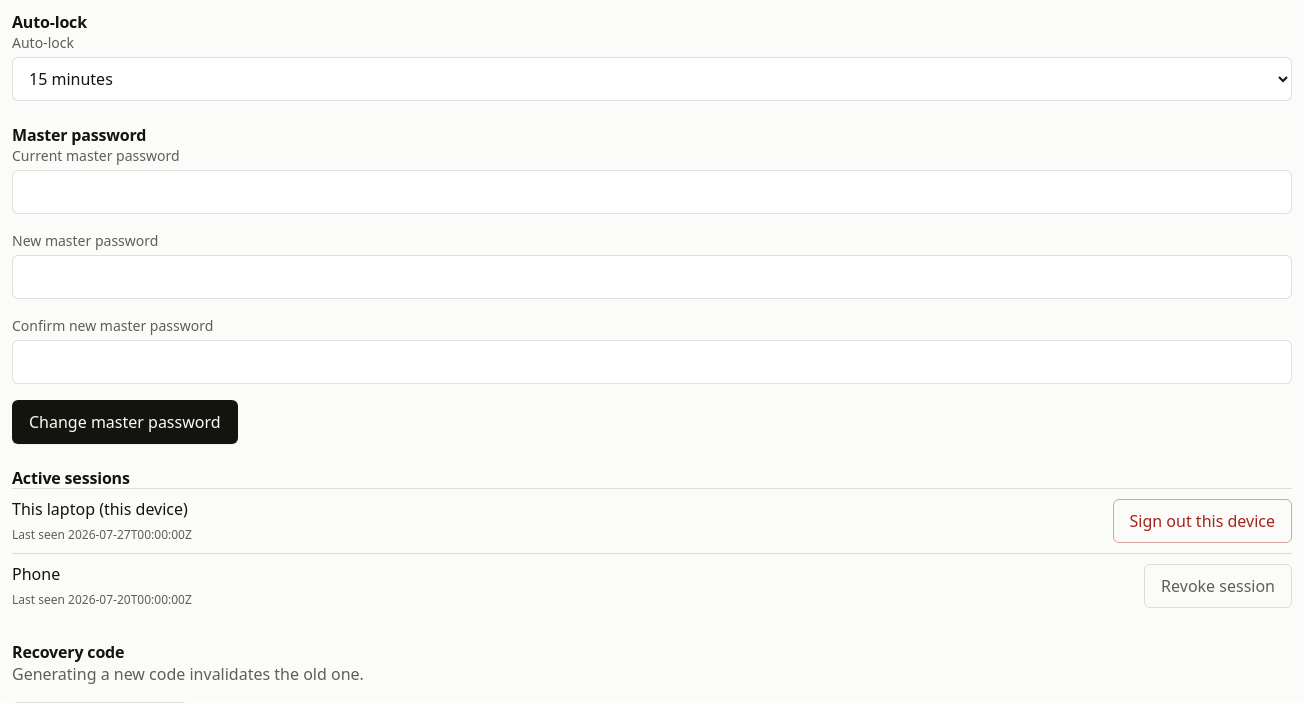
Test: SettingsScreen master password › shows the server's own message for a wrong current password
Type "wrong-password" into the password field labelled "Current master password" at (652, 192), box 12,170 -> 1292,214
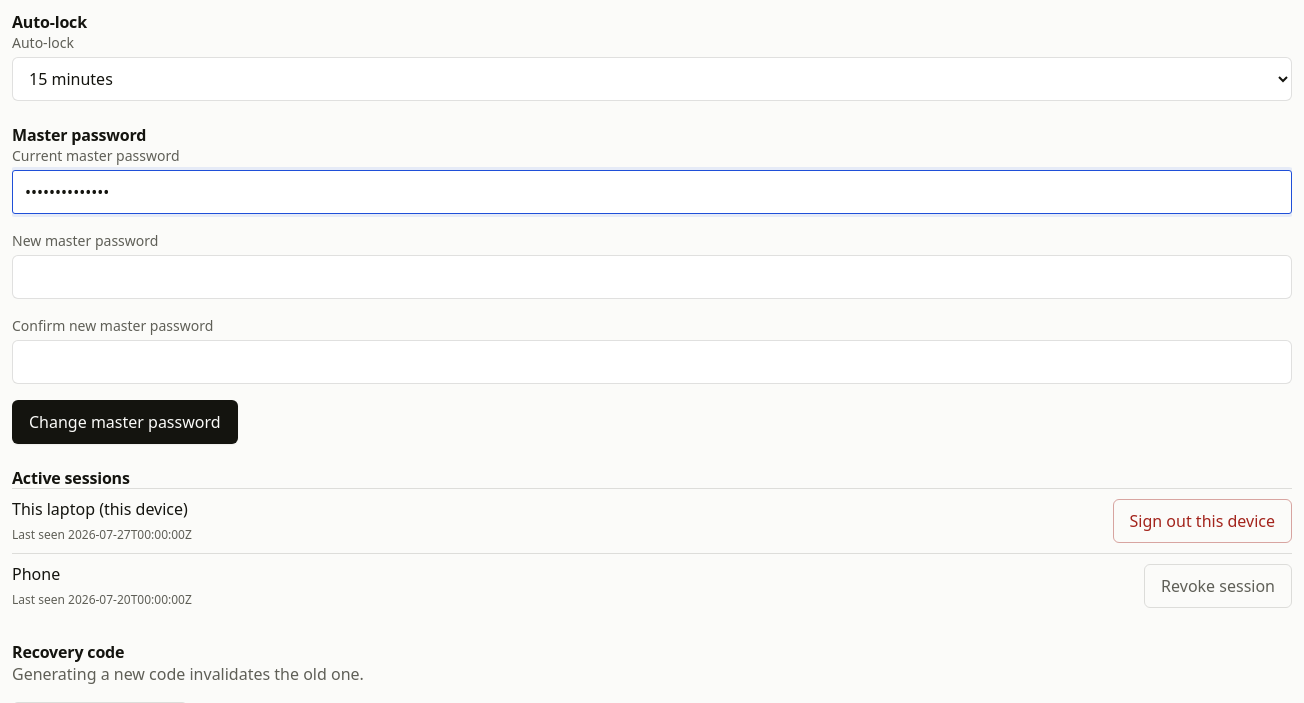
Type "new-password" into the password field labelled "New master password" at (652, 277), box 12,255 -> 1292,299
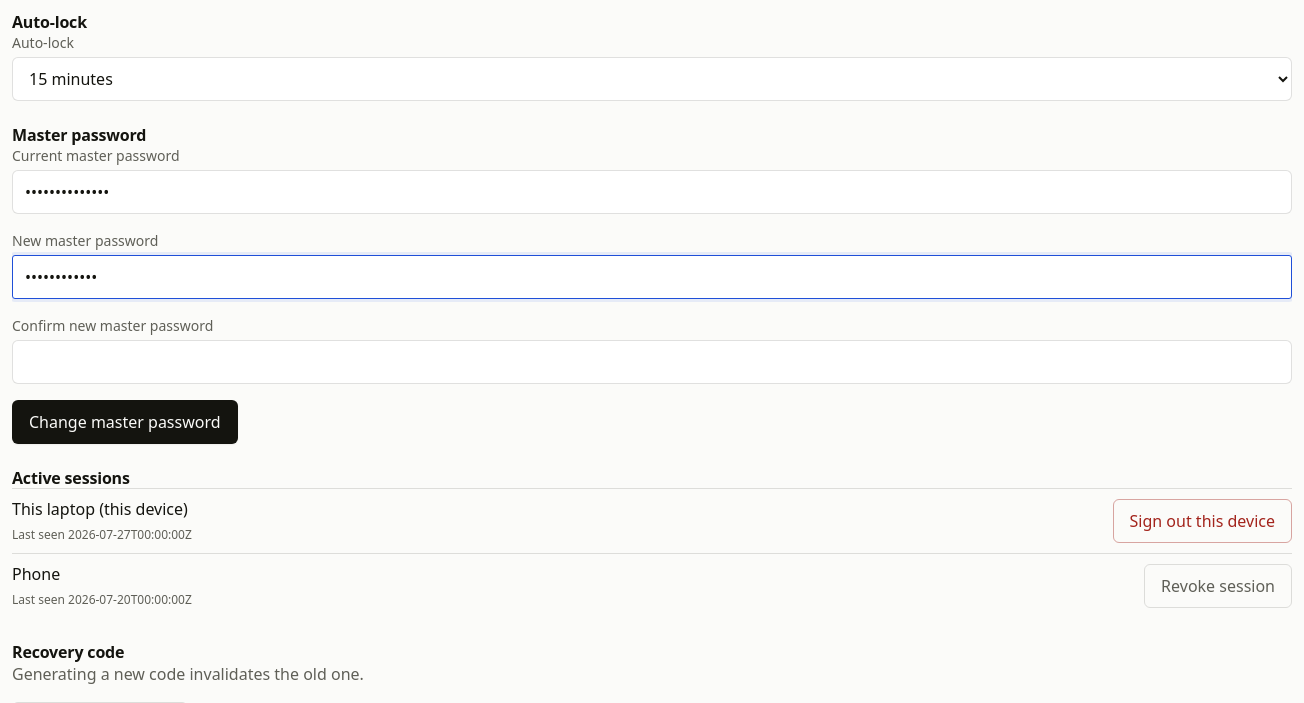
Type "new-password" into the password field labelled "Confirm new master password" at (652, 362), box 12,340 -> 1292,384
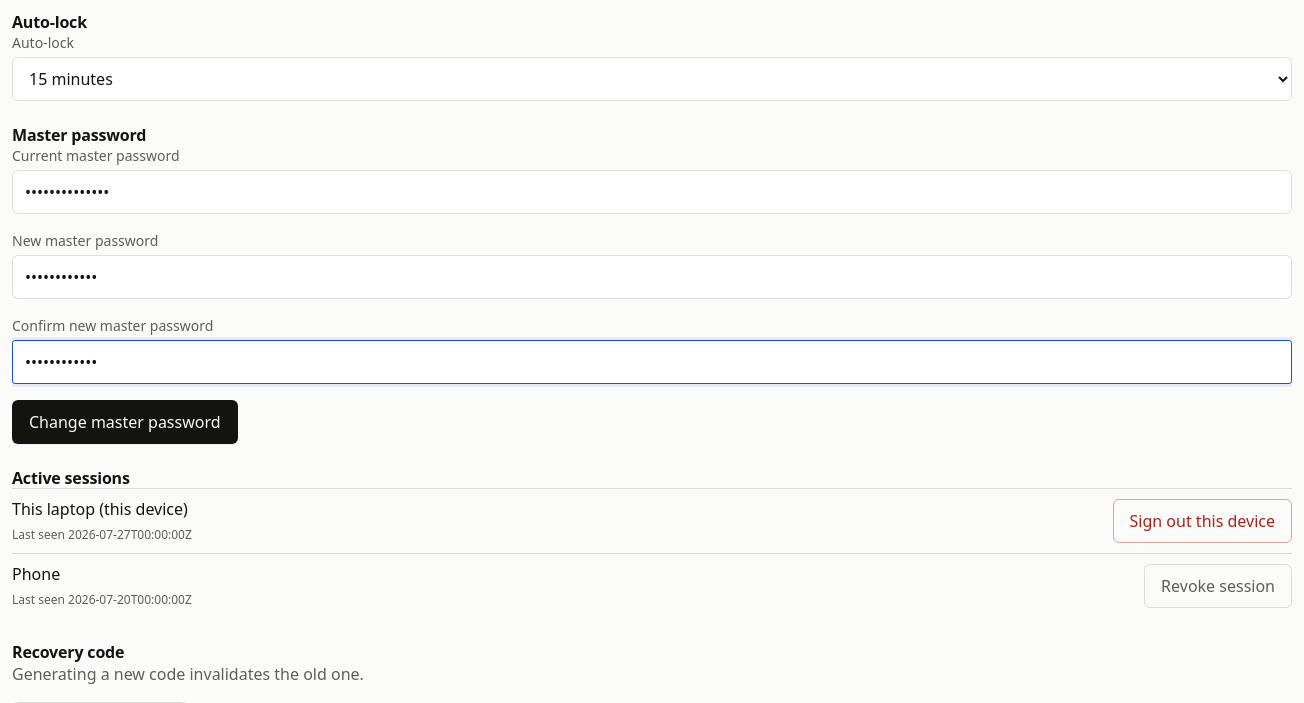
Click the button "Change master password" at (125, 422), box 12,400 -> 238,444
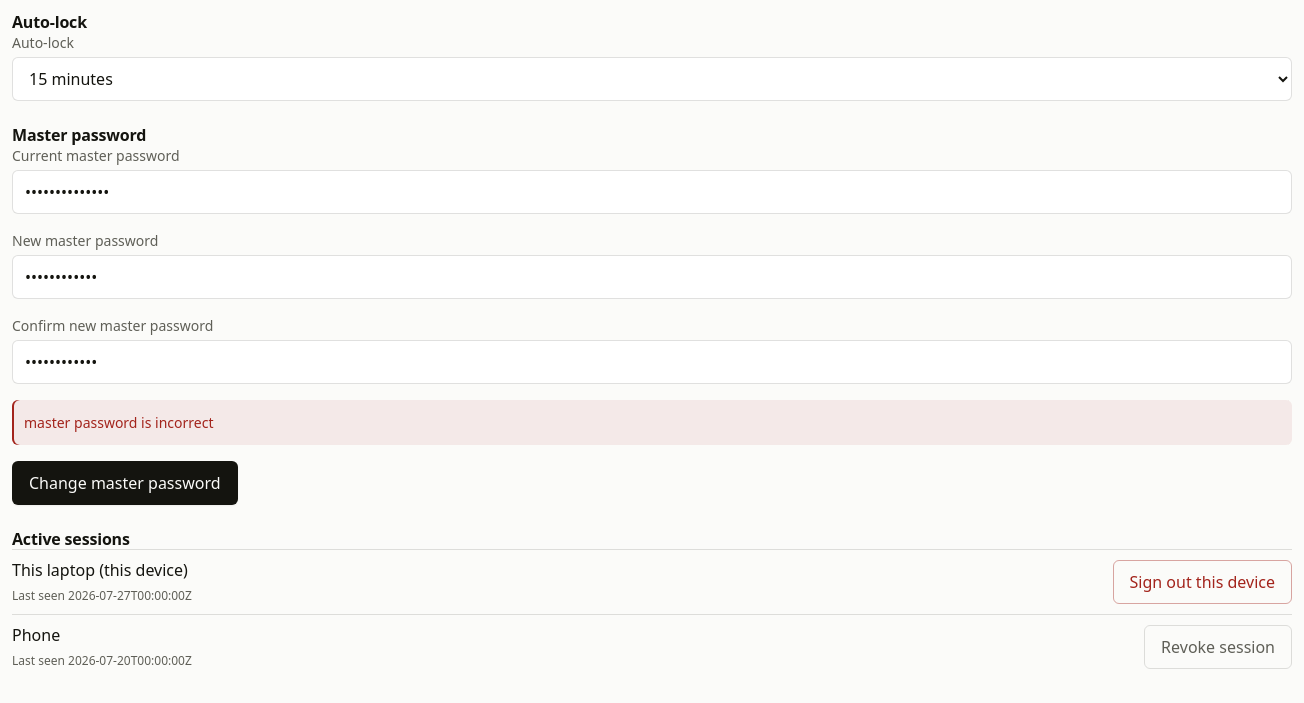
expect the message reads "master password is incorrect": met, box 24,413 -> 214,432
